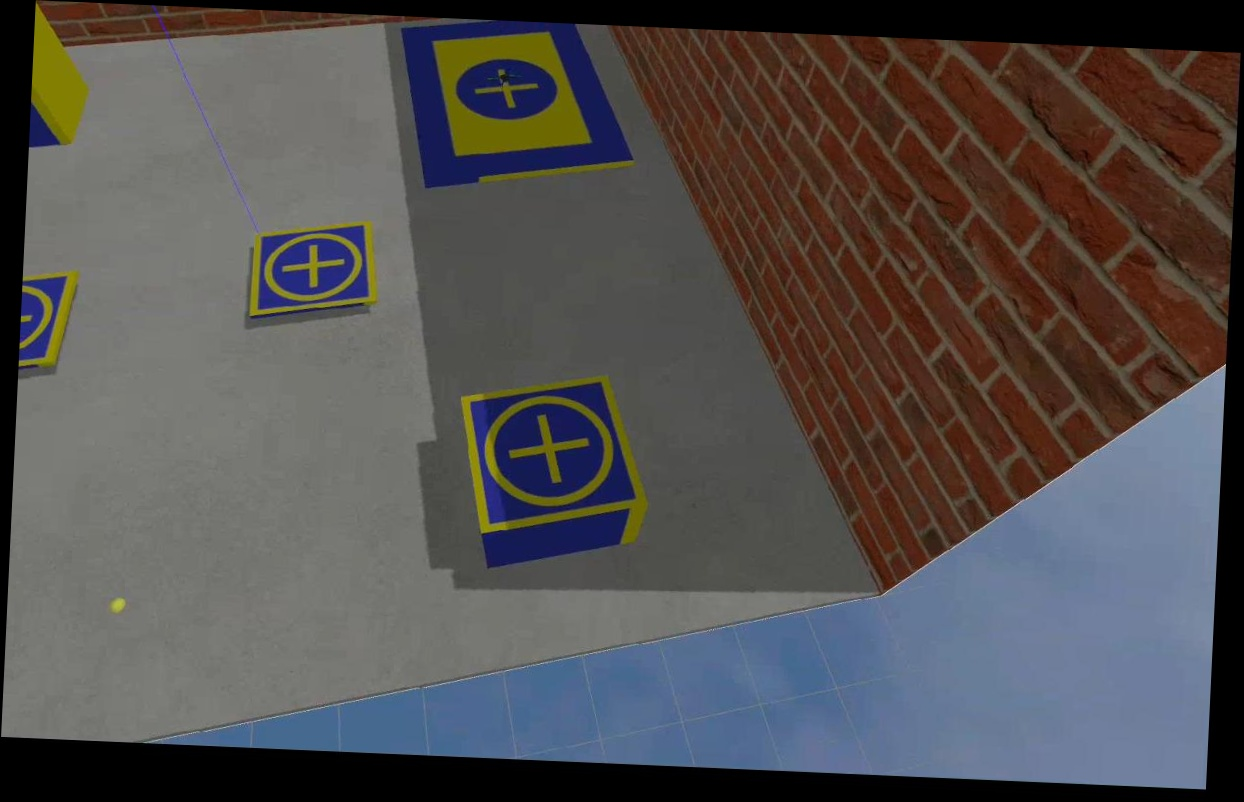large_base: (392, 17, 642, 198)
small_base: (454, 371, 657, 543), (245, 215, 381, 323), (18, 267, 80, 375)
